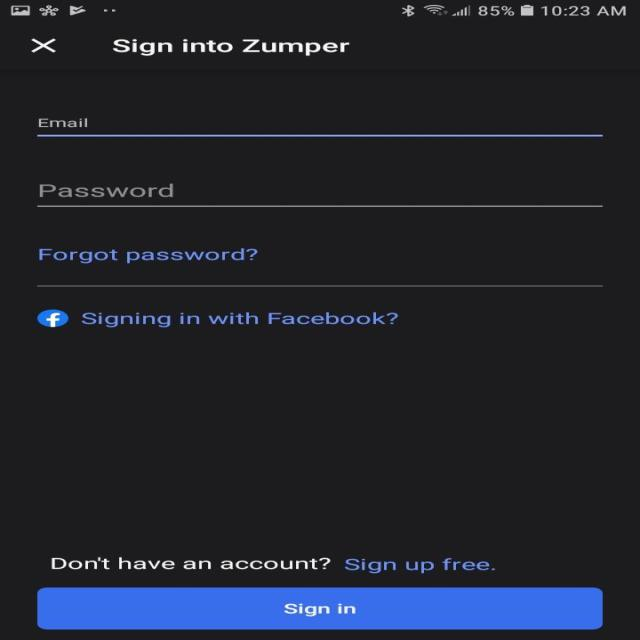EditText: (36, 183, 602, 207), (36, 118, 602, 137)
Icon: (37, 309, 70, 327), (31, 38, 57, 53)
Text: (51, 556, 496, 573), (81, 312, 397, 327), (112, 39, 348, 57), (38, 248, 258, 263), (39, 183, 173, 198), (37, 118, 87, 128)
TextButton: (37, 587, 603, 629)
